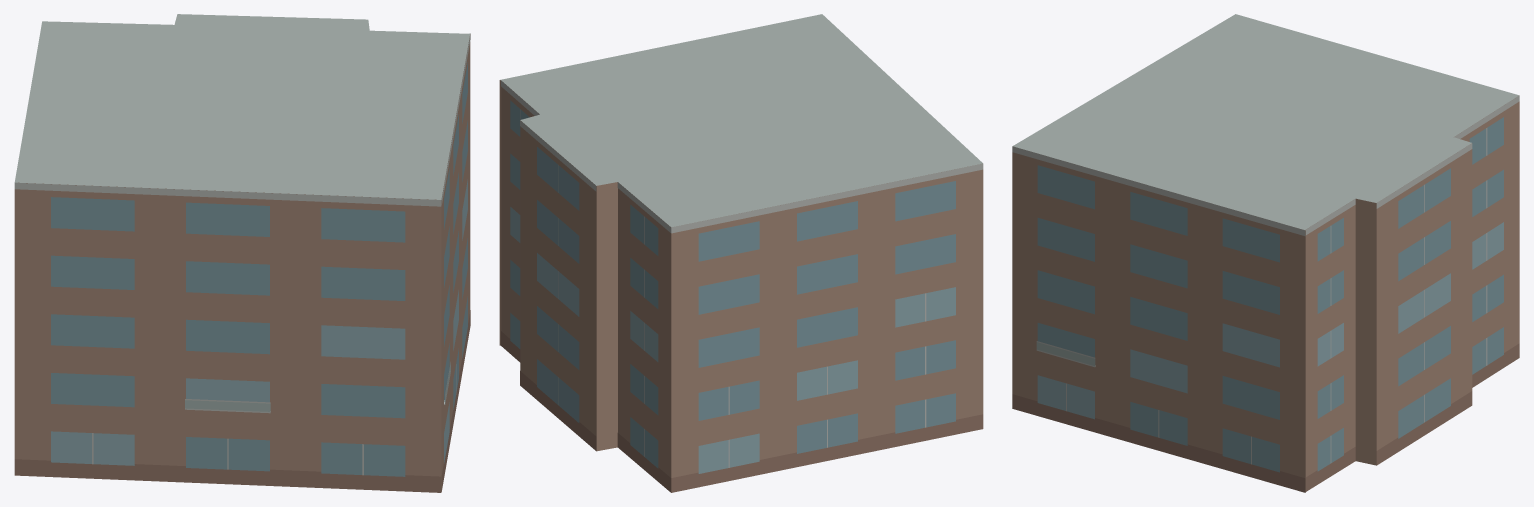
The model's file is survey-upis-32780905.glb.
3 views of the same model, side by side, from view 1: azimuth 30°, elevation 25°; view 2: azimuth 150°, elevation 25°; view 3: azimuth 270°, elevation 25° (orthographic). The views are drawn at different scales.
Parts seen in each view (by area): view 1: survey-upis-32780905.tmp; view 2: survey-upis-32780905.tmp; view 3: survey-upis-32780905.tmp.
Boxes of the visible parts, left/top/right/bottom form: survey-upis-32780905.tmp: left=14, top=14, right=470, bottom=492; survey-upis-32780905.tmp: left=499, top=14, right=983, bottom=492; survey-upis-32780905.tmp: left=1012, top=14, right=1519, bottom=492.
Size of the model in its own units: 18.92 by 10.7 by 18.74.
